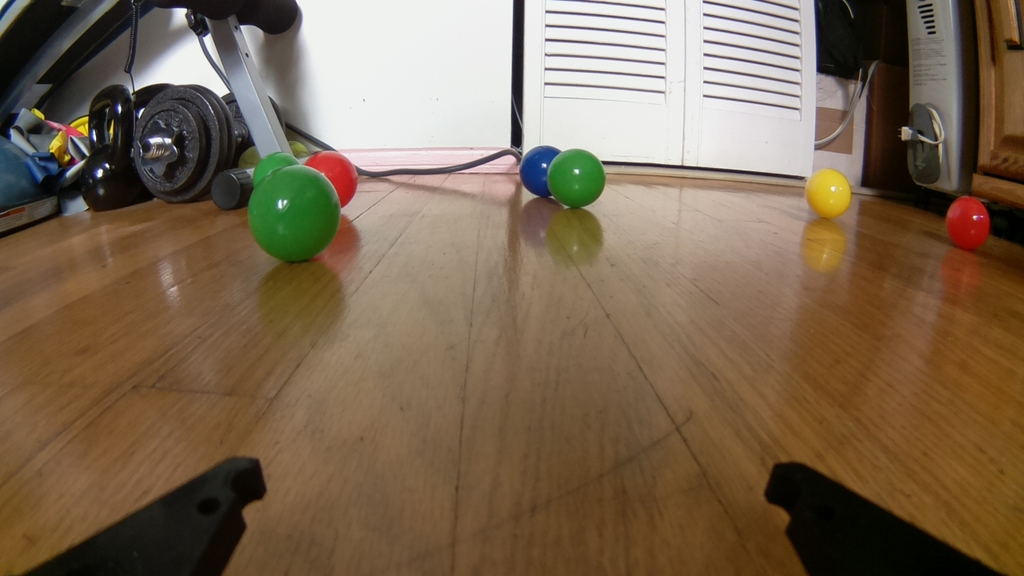ball: (305, 148, 358, 207)
